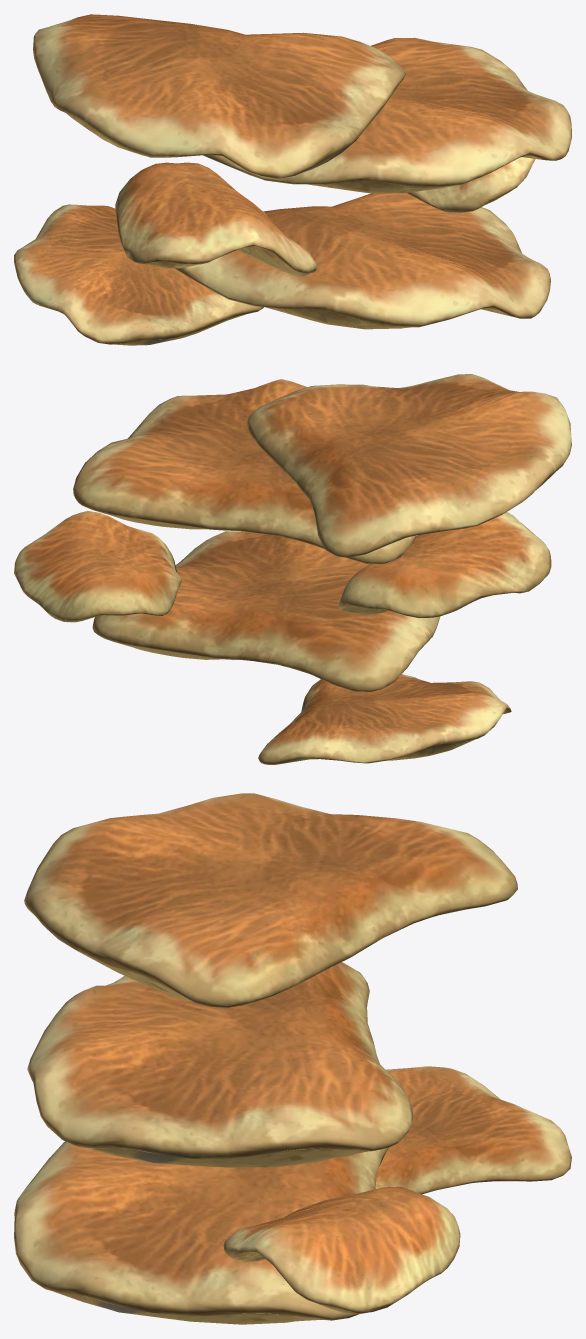
Rendered from Mushroom_Laetiporus.gltf.
3 renders of one model, top to bottom at view 1: azimuth 30°, elevation 25°; view 2: azimuth 150°, elevation 25°; view 3: azimuth 270°, elevation 25°, orthographic. The views are drawn at different scales.
Parts seen in each view (by area): view 1: Mushroom_Laetiporus; view 2: Mushroom_Laetiporus; view 3: Mushroom_Laetiporus.
Boxes of the visible parts, box(x1,y1,x2,y2) form: Mushroom_Laetiporus: box(14, 14, 571, 345); Mushroom_Laetiporus: box(14, 374, 571, 764); Mushroom_Laetiporus: box(14, 793, 571, 1324).
Bounding box in the file's own units: 1.36 × 0.7528 × 1.1.
Materials: 1 (1 with a texture image).
